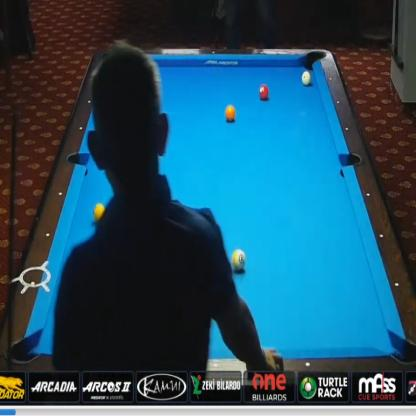Ball: (232, 249, 246, 270), (93, 204, 105, 222), (224, 104, 236, 121), (258, 83, 269, 100), (301, 71, 311, 86)
